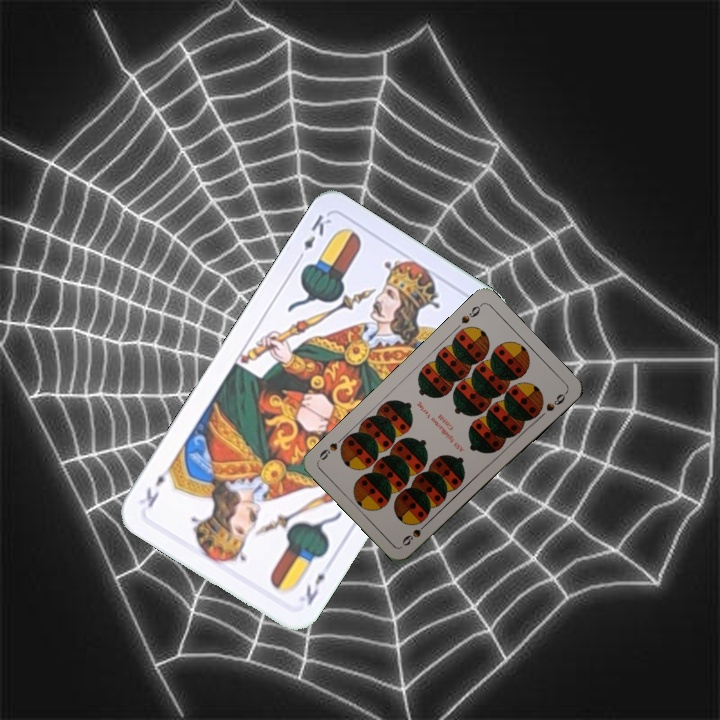EK: (292, 210, 334, 265), (301, 569, 328, 608)
S9: (398, 517, 432, 549), (457, 300, 484, 326)
